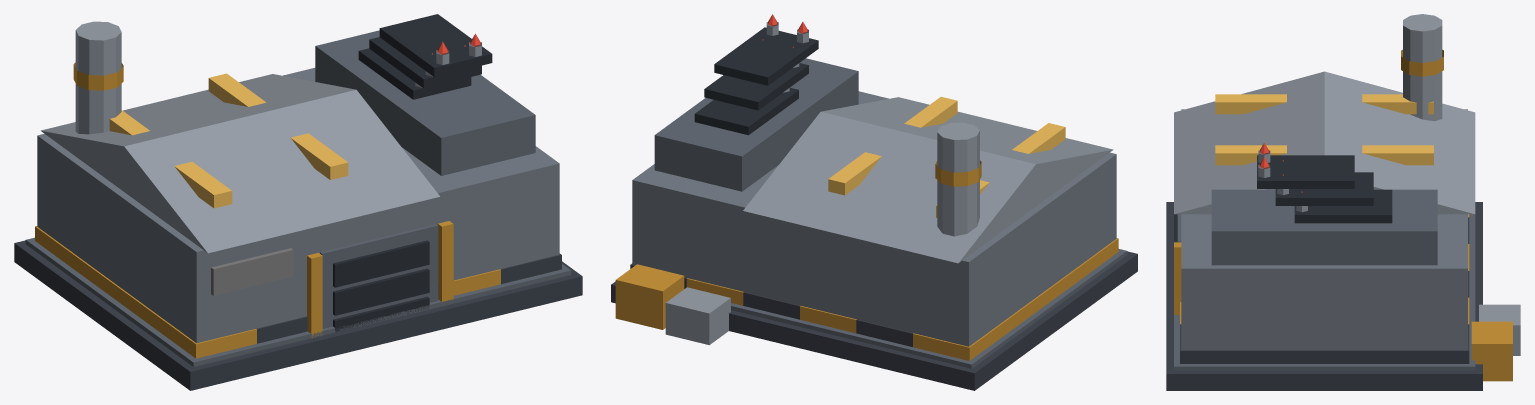
File: arsenal.obj
3 renders of one model, left to right at view 1: azimuth 30°, elevation 25°; view 2: azimuth 150°, elevation 25°; view 3: azimuth 270°, elevation 25°, orthographic. The views are drawn at different scales.
Visible parts, largest first — view 1: arsenal; view 2: arsenal; view 3: arsenal.
Part boxes in pixels (x1=…): arsenal: x1=14, y1=14, x2=582, y2=390; arsenal: x1=611, y1=14, x2=1137, y2=390; arsenal: x1=1166, y1=14, x2=1520, y2=390.
Bounding box in the file's own units: 10.8 × 6.4 × 9.4.
